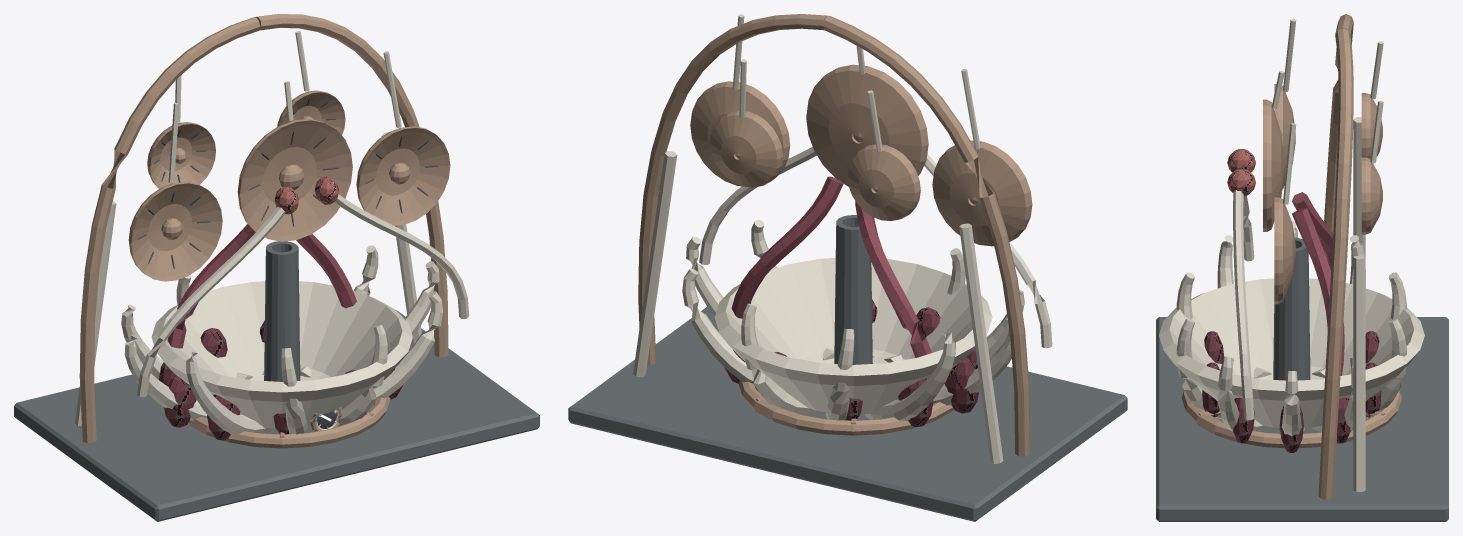
The model's file is processional_gong_carousel.glb.
3 renders of one model, left to right at view 1: azimuth 30°, elevation 25°; view 2: azimuth 150°, elevation 25°; view 3: azimuth 270°, elevation 25°, orthographic. The views are drawn at different scales.
Parts seen in each view (by area): view 1: processional_gong_carousel_worn, processional_gong_carousel_petrol, processional_gong_carousel_warm, processional_gong_carousel_bruised, processional_gong_carousel_deep, processional_gong_carousel_suture; view 2: processional_gong_carousel_petrol, processional_gong_carousel_worn, processional_gong_carousel_warm, processional_gong_carousel_bruised; view 3: processional_gong_carousel_petrol, processional_gong_carousel_warm, processional_gong_carousel_worn, processional_gong_carousel_bruised, processional_gong_carousel_suture.
Boxes of the visible parts, x1,y1,x2,y2 form: processional_gong_carousel_worn: (79,14,450,448); processional_gong_carousel_petrol: (14,241,539,521); processional_gong_carousel_warm: (75,31,469,434); processional_gong_carousel_bruised: (159,223,403,440); processional_gong_carousel_deep: (137,98,438,428); processional_gong_carousel_suture: (274,176,338,214); processional_gong_carousel_petrol: (568,215,1127,521); processional_gong_carousel_worn: (638,14,1032,456); processional_gong_carousel_warm: (633,14,1052,463); processional_gong_carousel_bruised: (725,176,978,427); processional_gong_carousel_petrol: (1156,237,1448,521); processional_gong_carousel_warm: (1159,18,1424,491); processional_gong_carousel_worn: (1181,14,1401,499); processional_gong_carousel_bruised: (1202,192,1381,452); processional_gong_carousel_suture: (1227,149,1255,196).
Size of the model in its own units: 5.95 by 5.8 by 3.85.
Materials: 7 (2 with a texture image).
